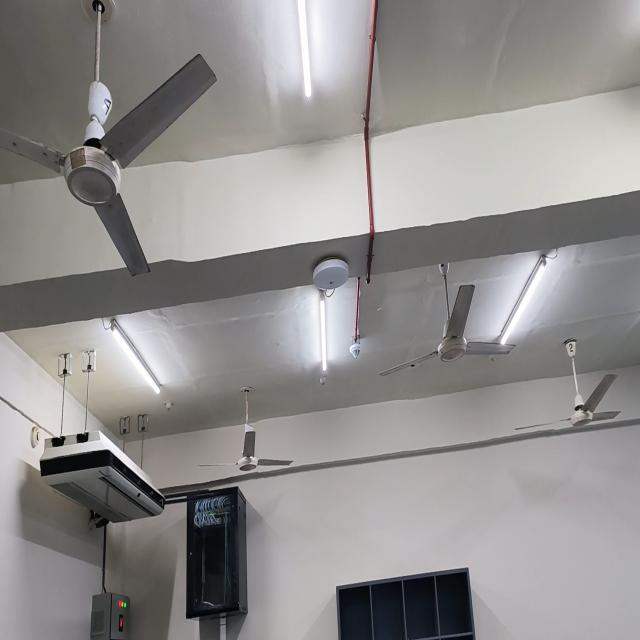Ac: (40, 431, 165, 527)
Light: (496, 249, 557, 344), (102, 318, 161, 393), (297, 0, 311, 99), (320, 291, 327, 372)
